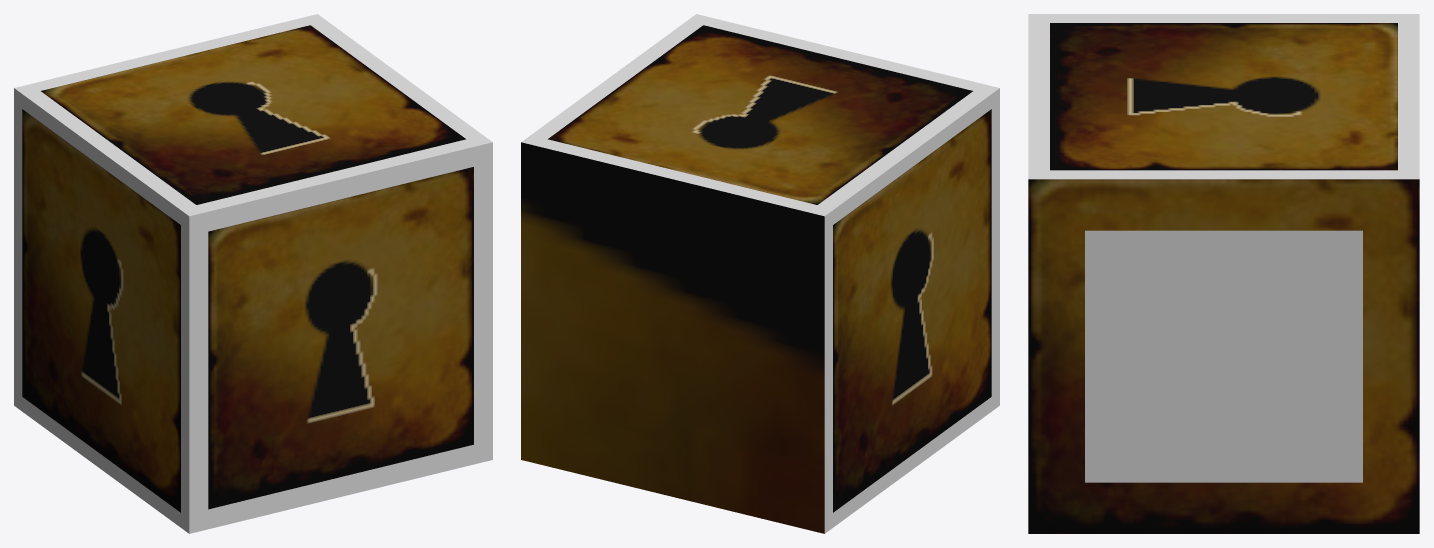
Rendered from lock.glb.
3 renders of one model, left to right at view 1: azimuth 30°, elevation 25°; view 2: azimuth 150°, elevation 25°; view 3: azimuth 270°, elevation 25°, orthographic. The views are drawn at different scales.
Visible parts, largest first — view 1: Cube; view 2: Cube; view 3: Cube.
Part boxes in pixels (x1=…): Cube: x1=14, y1=14, x2=492, y2=533; Cube: x1=521, y1=14, x2=999, y2=533; Cube: x1=1028, y1=14, x2=1419, y2=533.
Bounding box in the file's own units: 1 × 1 × 1.
2 materials, 1 textured.
